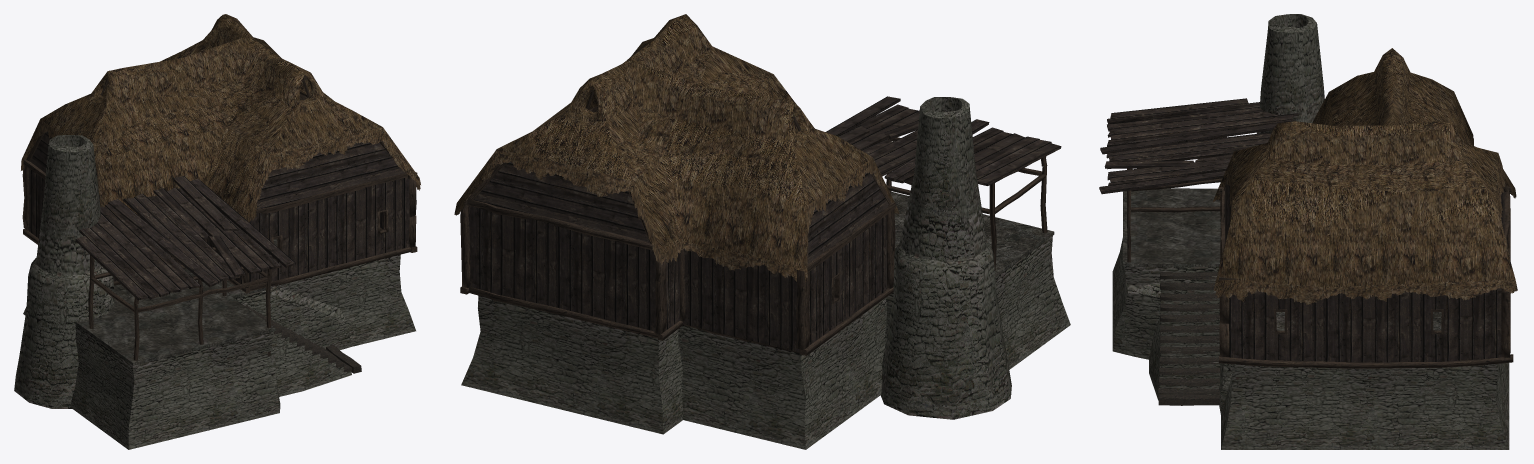
The model's file is G3_Myrtana_House_Blacksmith_01.obj.
3 views of the same model, side by side, from view 1: azimuth 30°, elevation 25°; view 2: azimuth 150°, elevation 25°; view 3: azimuth 270°, elevation 25° (orthographic). The views are drawn at different scales.
Parts seen in each view (by area): view 1: G3_Myrtana_House_Blacksmith_01_0, G3_Myrtana_House_Blacksmith_01_2, G3_Myrtana_House_Blacksmith_01_4, G3_Myrtana_House_Blacksmith_01_1, G3_Myrtana_House_Blacksmith_01_5, G3_Myrtana_House_Blacksmith_01_3, G3_Myrtana_House_Blacksmith_01_6; view 2: G3_Myrtana_House_Blacksmith_01_0, G3_Myrtana_House_Blacksmith_01_4, G3_Myrtana_House_Blacksmith_01_2, G3_Myrtana_House_Blacksmith_01_5, G3_Myrtana_House_Blacksmith_01_3, G3_Myrtana_House_Blacksmith_01_1; view 3: G3_Myrtana_House_Blacksmith_01_2, G3_Myrtana_House_Blacksmith_01_0, G3_Myrtana_House_Blacksmith_01_4, G3_Myrtana_House_Blacksmith_01_1, G3_Myrtana_House_Blacksmith_01_6, G3_Myrtana_House_Blacksmith_01_5, G3_Myrtana_House_Blacksmith_01_3.
Boxes of the visible parts, box(x1,y1,x2,y2) form: G3_Myrtana_House_Blacksmith_01_0: box(14, 135, 415, 449); G3_Myrtana_House_Blacksmith_01_2: box(25, 14, 382, 218); G3_Myrtana_House_Blacksmith_01_4: box(29, 131, 409, 300); G3_Myrtana_House_Blacksmith_01_1: box(75, 239, 277, 365); G3_Myrtana_House_Blacksmith_01_5: box(22, 70, 417, 360); G3_Myrtana_House_Blacksmith_01_3: box(21, 119, 420, 222); G3_Myrtana_House_Blacksmith_01_6: box(245, 305, 361, 373); G3_Myrtana_House_Blacksmith_01_0: box(461, 97, 1070, 449); G3_Myrtana_House_Blacksmith_01_4: box(469, 96, 1061, 355); G3_Myrtana_House_Blacksmith_01_2: box(470, 14, 884, 269); G3_Myrtana_House_Blacksmith_01_5: box(460, 87, 1047, 355); G3_Myrtana_House_Blacksmith_01_3: box(454, 149, 899, 281); G3_Myrtana_House_Blacksmith_01_1: box(834, 191, 1054, 284); G3_Myrtana_House_Blacksmith_01_2: box(1216, 48, 1515, 287); G3_Myrtana_House_Blacksmith_01_0: box(1112, 14, 1509, 449); G3_Myrtana_House_Blacksmith_01_4: box(1099, 98, 1504, 362); G3_Myrtana_House_Blacksmith_01_1: box(1123, 188, 1441, 330); G3_Myrtana_House_Blacksmith_01_6: box(1158, 272, 1220, 405); G3_Myrtana_House_Blacksmith_01_5: box(1127, 52, 1513, 368); G3_Myrtana_House_Blacksmith_01_3: box(1213, 140, 1517, 304).
Bounding box in the file's own units: 19.07 × 13.12 × 17.49.
